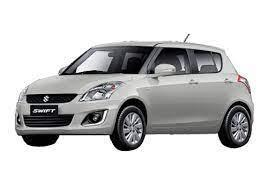Hatchback: (12, 40, 254, 152)
